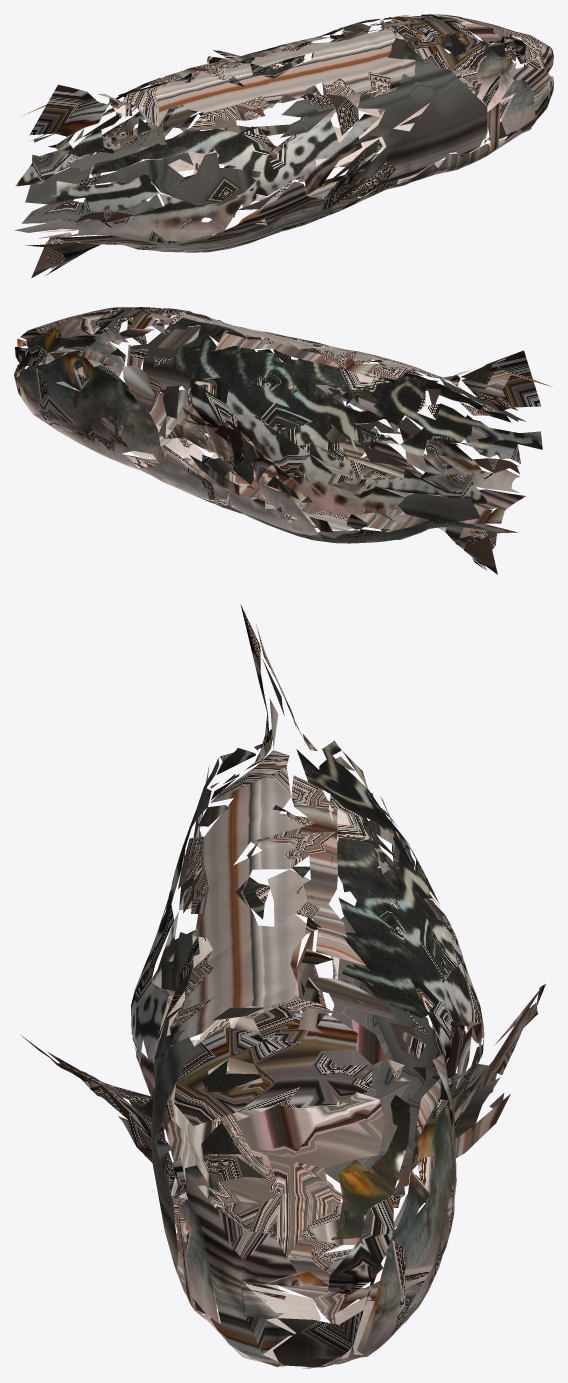
File: stripedpuffer_a.glb
3 renders of one model, top to bottom at view 1: azimuth 30°, elevation 25°; view 2: azimuth 150°, elevation 25°; view 3: azimuth 270°, elevation 25°, orthographic. The views are drawn at different scales.
Visible parts, largest first — view 1: stripedpuffer_a; view 2: stripedpuffer_a; view 3: stripedpuffer_a.
Part boxes in pixels (x1,y1,x2,y2): stripedpuffer_a: (15,14,553,277); stripedpuffer_a: (14,307,550,574); stripedpuffer_a: (21,604,545,1368).
Bounding box in the file's own units: 0.3431 × 0.1287 × 0.1505.
1 material, 1 textured.
